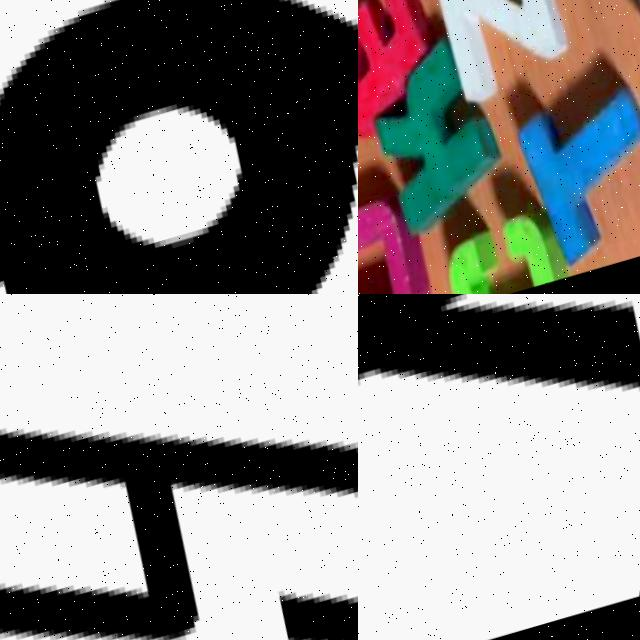9: (0, 294, 358, 640), (0, 0, 358, 294)
E: (358, 0, 460, 141)
K: (358, 13, 540, 267)
T: (502, 43, 640, 267)
U: (358, 187, 454, 294)
X: (358, 294, 640, 548)
Z: (420, 0, 595, 99)
